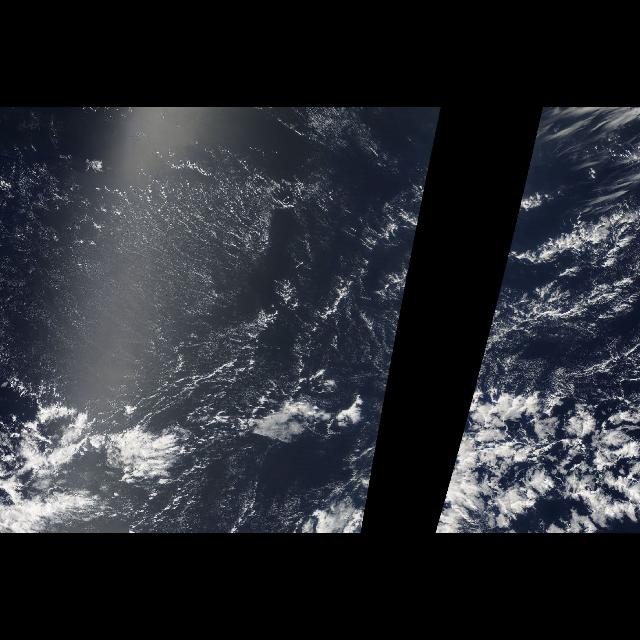Fish: (509, 185, 637, 277)
Gravel: (0, 162, 312, 246)
Sugar: (1, 144, 402, 402), (470, 316, 638, 402)
